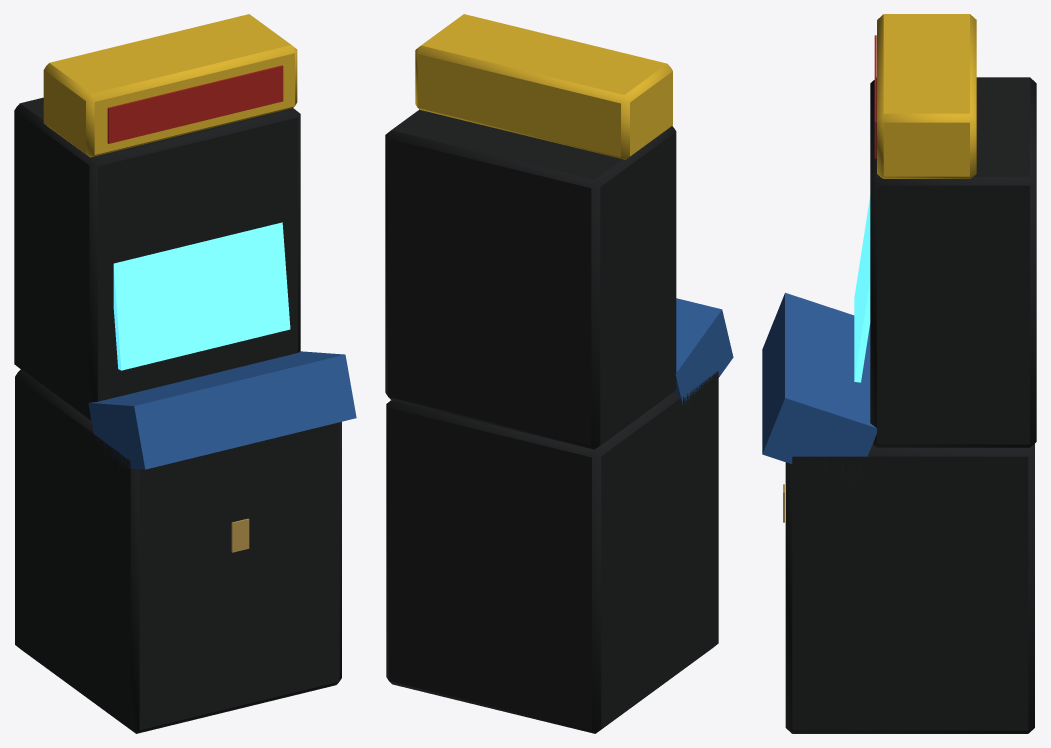
The model's file is arcade_cabinet.glb.
3 views of the same model, side by side, from view 1: azimuth 30°, elevation 25°; view 2: azimuth 150°, elevation 25°; view 3: azimuth 270°, elevation 25° (orthographic). The views are drawn at different scales.
Visible parts, largest first — view 1: ArcadeCabinet; view 2: ArcadeCabinet; view 3: ArcadeCabinet.
Boxes of the visible parts, x1,y1,x2,y2 form: ArcadeCabinet: (14, 14, 356, 733); ArcadeCabinet: (385, 14, 733, 733); ArcadeCabinet: (762, 14, 1036, 733).
Bounding box in the file's own units: 0.75 × 2.06 × 0.8252.
